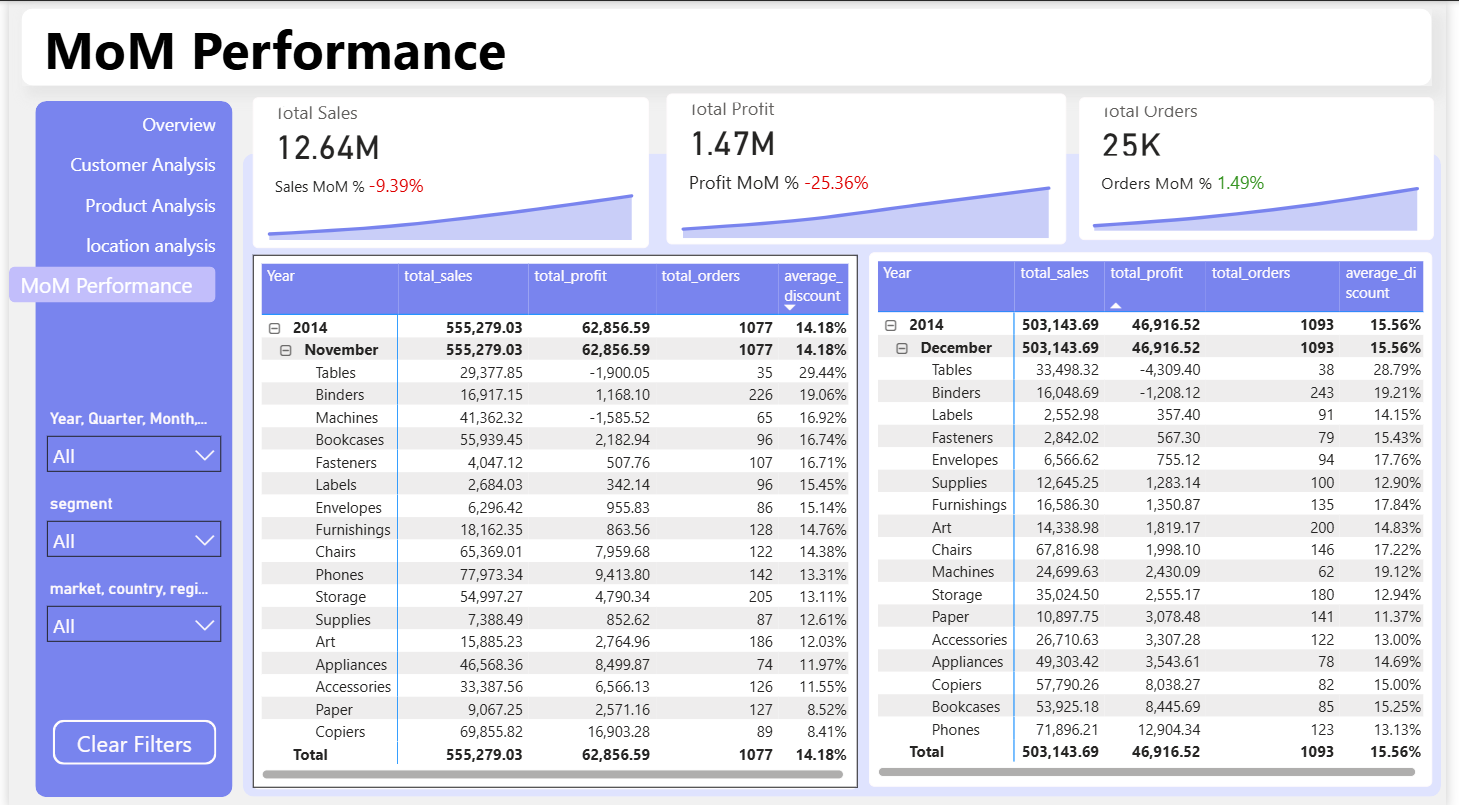

The dashboard page shown, as its layout file describes it:
{"tool":"powerbi","page":{"name":"MoM Performance","canvas":[1280,720],"ordinal":4},"visuals":[{"type":"cardVisual","fields":{"Data":["_measure.total_profit"]},"box":[585.7,82.9,355.7,134.3],"z":0,"group":"g2"},{"type":"cardVisual","fields":{"Data":["_measure.total_sales"]},"box":[217.3,85.7,352.6,134.3],"z":0,"group":"g1"},{"type":"cardVisual","fields":{"Data":["_measure.total_orders"]},"box":[952.5,85.7,316.1,127.2],"z":0,"group":"g3"},{"type":"shape","box":[208.6,135.7,1067.1,572.9],"z":0},{"type":"shape","box":[11.4,7.1,1255.7,68.6],"z":1000},{"type":"areaChart","fields":{"Category":["dim_date.Date.Variation.Date Hierarchy.Year","dim_date.Date.Variation.Date Hierarchy.Month"],"Y":["_measure.total_profit"]},"box":[585.7,140,355.7,77.1],"z":1000,"group":"g2"},{"type":"areaChart","fields":{"Category":["dim_date.Date.Variation.Date Hierarchy.Year","dim_date.Date.Variation.Date Hierarchy.Month"],"Y":["_measure.total_orders"]},"box":[951.8,141.8,317.6,68.5],"z":1000,"group":"g3"},{"type":"areaChart","fields":{"Category":["dim_date.Date.Variation.Date Hierarchy.Year","dim_date.Date.Variation.Date Hierarchy.Month"],"Y":["_measure.total_sales"]},"box":[217.1,147.5,352.6,70],"z":1000,"group":"g1"},{"type":"group","id":"g1","title":"Group 1","box":[217.1,85.7,352.9,134.3],"z":2000},{"type":"group","id":"g2","title":"Group 2","box":[585.7,82.9,355.7,134.3],"z":3000},{"type":"group","id":"g3","title":"Group 3","box":[951.8,85.7,317.6,127.2],"z":4000},{"type":"pivotTable","fields":{"Rows":["dim_date.Date.Variation.Date Hierarchy.Year","dim_date.Date.Variation.Date Hierarchy.Month","dim_product.sub_category"],"Values":["_measure.total_sales","_measure.total_profit","_measure.total_orders","_measure.average_discount"]},"box":[217.1,225.7,538.6,475.7],"z":5000},{"type":"pivotTable","fields":{"Rows":["dim_date.Date.Variation.Date Hierarchy.Year","dim_date.Date.Variation.Date Hierarchy.Month","dim_product.sub_category"],"Values":["_measure.total_sales","_measure.total_profit","_measure.total_orders","_measure.average_discount"]},"box":[765.7,224.3,501.4,475.7],"z":6000},{"type":"shape","box":[22.9,88.6,175.7,620],"z":7000},{"type":"slicer","fields":{"Values":["dim_customer.segment"]},"box":[22.9,434.3,175.7,75.7],"z":8000},{"type":"slicer","fields":{"Values":["dim_location.market Hierarchy.market","dim_location.market Hierarchy.country","dim_location.market Hierarchy.region","dim_location.market Hierarchy.state","dim_location.market Hierarchy.city"]},"box":[22.9,510,175.7,80],"z":9000},{"type":"slicer","fields":{"Values":["dim_date.Date.Variation.Date Hierarchy.Year","dim_date.Date.Variation.Date Hierarchy.Quarter","dim_date.Date.Variation.Date Hierarchy.Month","dim_date.Date.Variation.Date Hierarchy.Day"]},"box":[22.9,358.6,175.7,75.7],"z":10000},{"type":"actionButton","box":[38.6,640,145.7,40],"z":11000},{"type":"pageNavigator","box":[0,92.9,184.3,180],"z":12000}]}

Visuals, with their boxes in screenshot pixels (x1, y1, x2, y2), scaled from the page's 1280x720 canvas onto the 1459x805 screenshot:
cardVisual - _measure.total_profit: select_region(668, 93, 1073, 243)
cardVisual - _measure.total_sales: select_region(248, 96, 650, 246)
cardVisual - _measure.total_orders: select_region(1086, 96, 1446, 238)
shape: select_region(238, 152, 1454, 792)
shape: select_region(13, 8, 1444, 85)
areaChart - dim_date.Date.Variation.Date Hierarchy.Year x dim_date.Date.Variation.Date Hierarchy.Month: select_region(668, 157, 1073, 243)
areaChart - dim_date.Date.Variation.Date Hierarchy.Year x dim_date.Date.Variation.Date Hierarchy.Month: select_region(1085, 159, 1447, 235)
areaChart - dim_date.Date.Variation.Date Hierarchy.Year x dim_date.Date.Variation.Date Hierarchy.Month: select_region(247, 165, 649, 243)
"Group 1" group: select_region(247, 96, 650, 246)
"Group 2" group: select_region(668, 93, 1073, 243)
"Group 3" group: select_region(1085, 96, 1447, 238)
pivotTable - dim_date.Date.Variation.Date Hierarchy.Year x dim_date.Date.Variation.Date Hierarchy.Month: select_region(247, 252, 861, 784)
pivotTable - dim_date.Date.Variation.Date Hierarchy.Year x dim_date.Date.Variation.Date Hierarchy.Month: select_region(873, 251, 1444, 783)
shape: select_region(26, 99, 226, 792)
slicer - dim_customer.segment: select_region(26, 486, 226, 570)
slicer - dim_location.market Hierarchy.market x dim_location.market Hierarchy.country: select_region(26, 570, 226, 660)
slicer - dim_date.Date.Variation.Date Hierarchy.Year x dim_date.Date.Variation.Date Hierarchy.Quarter: select_region(26, 401, 226, 486)
actionButton: select_region(44, 716, 210, 760)
pageNavigator: select_region(0, 104, 210, 305)
